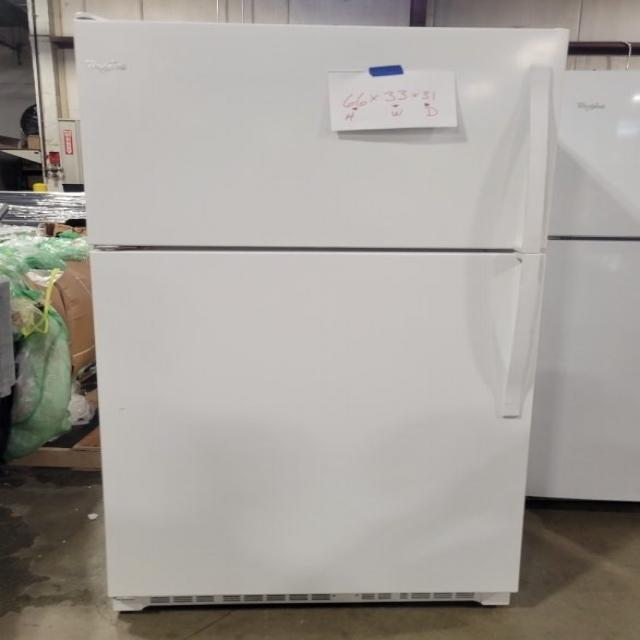refrigerator: (72, 18, 568, 609)
